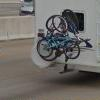Bicycle: (35, 9, 91, 69)
